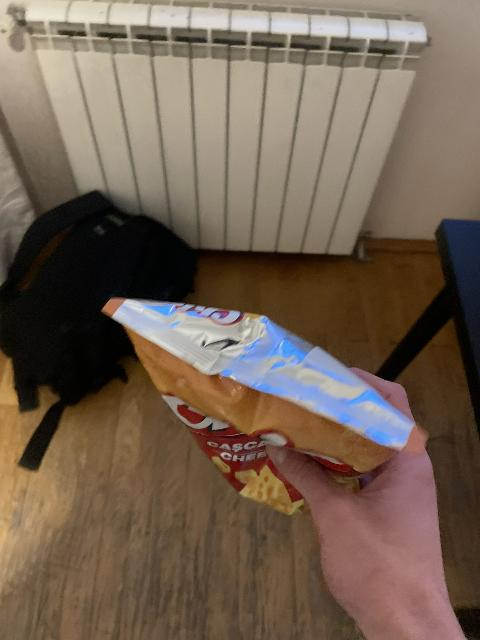Chio Cascaval 125g: (102, 304, 410, 511)
